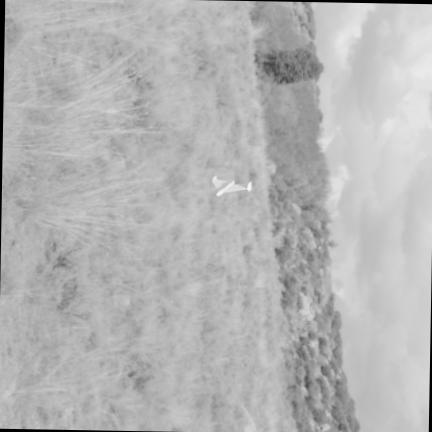Shahed: (211, 175, 250, 195)
